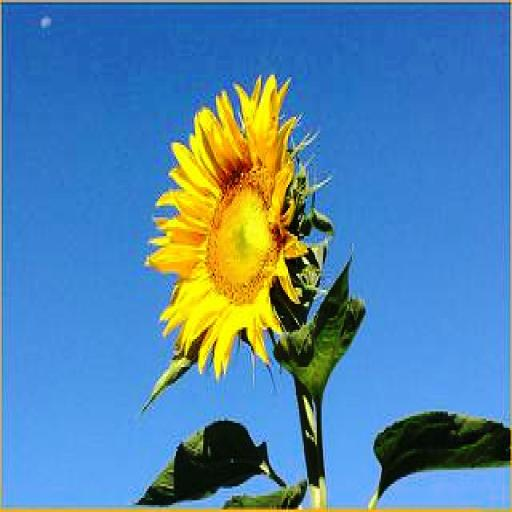sunflower: (148, 72, 326, 379)
